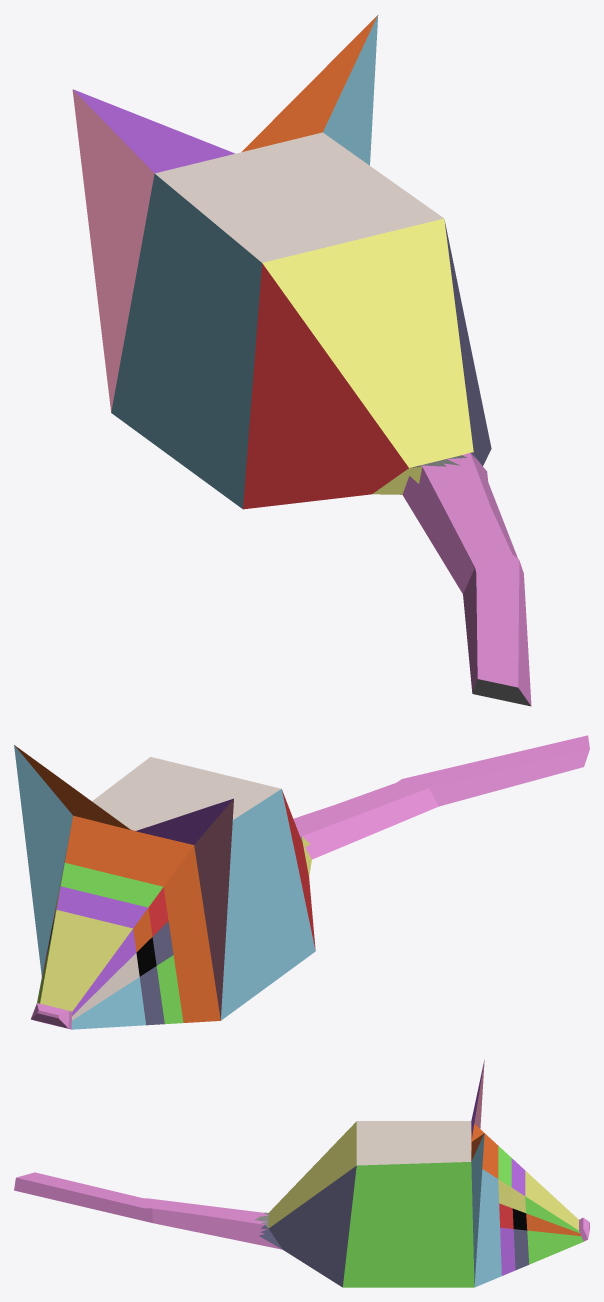
File: mouse toy.fbx
3 renders of one model, top to bottom at view 1: azimuth 30°, elevation 25°; view 2: azimuth 150°, elevation 25°; view 3: azimuth 270°, elevation 25°, orthographic. The views are drawn at different scales.
Visible parts, largest first — view 1: Cube; view 2: Cube; view 3: Cube.
Part boxes in pixels (x1,y1,x2,y2): Cube: [72, 15, 531, 706]; Cube: [14, 735, 589, 1029]; Cube: [14, 1059, 589, 1287].
Size of the model in its own units: 361 by 318 by 1028.
